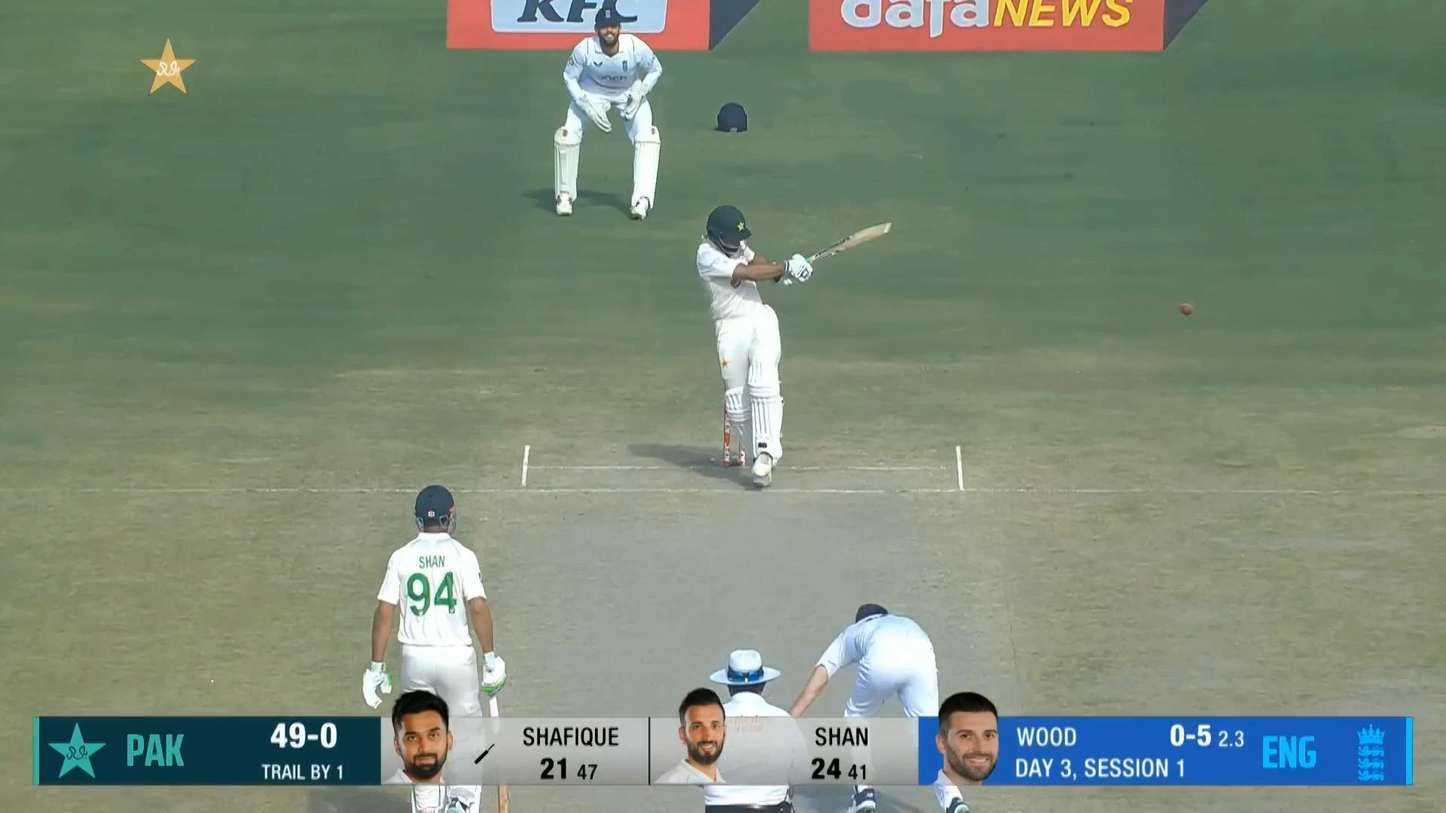BM 1: (694, 203, 894, 491)
BO: (787, 601, 970, 813)
